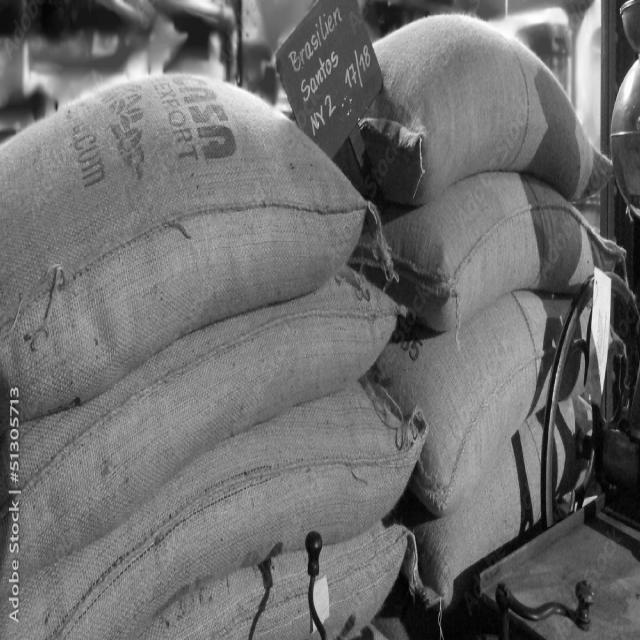sack: (1, 72, 369, 426), (1, 265, 406, 584), (4, 386, 429, 640), (373, 292, 626, 511), (349, 14, 614, 206), (358, 171, 626, 331), (402, 393, 594, 615), (151, 522, 420, 640)
